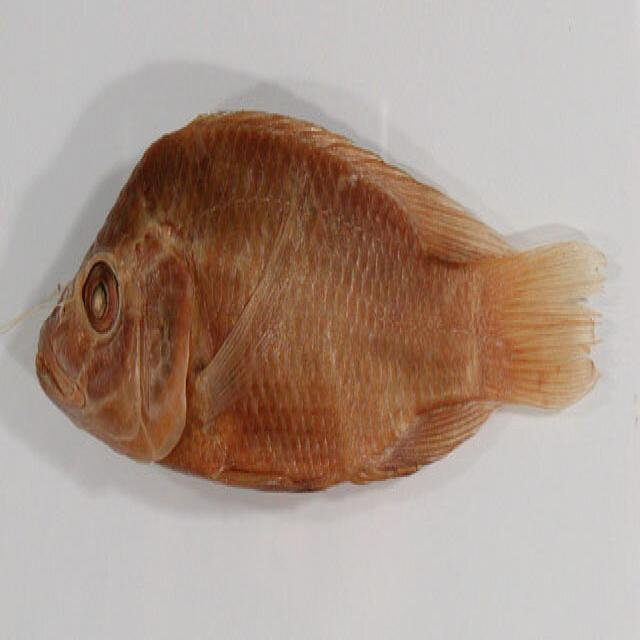ikan: (26, 72, 616, 524)
